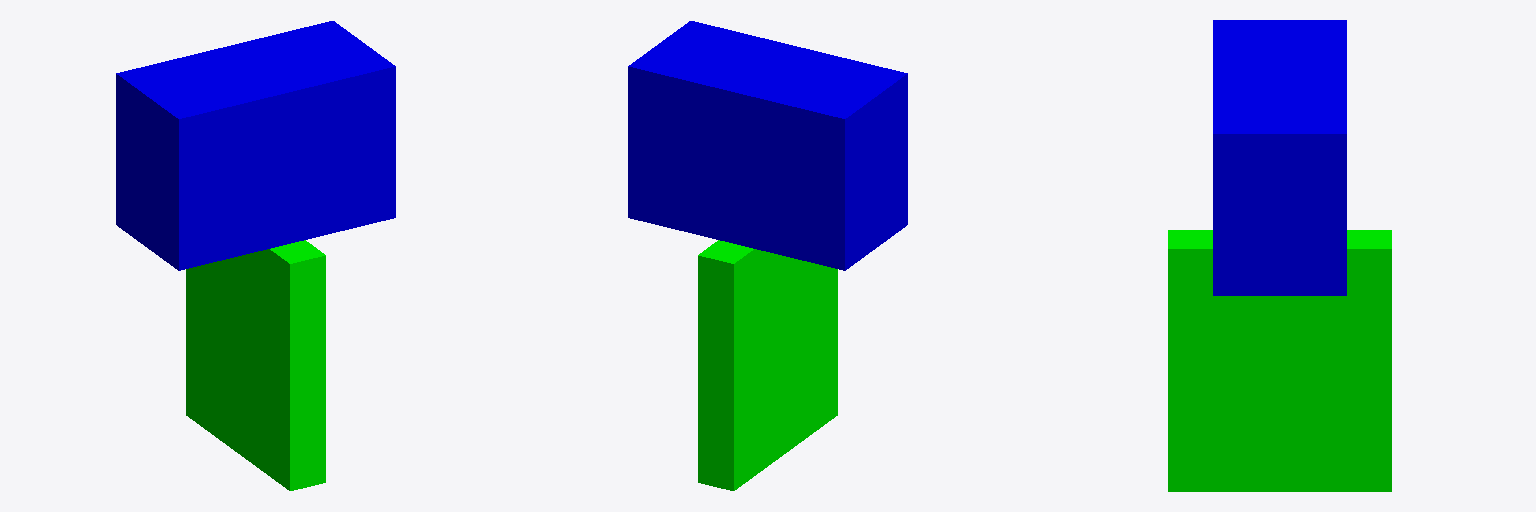
robot.urdf — robot:
<robot name = "robot">
    <link name="root">
        <inertial>
            <origin xyz="0.0 0.0 1.5" rpy="0 0 0"/>
            <mass value="1" />
            <inertia ixx="100" ixy="0" ixz="0" iyy="100" iyz="0" izz="100" />
        </inertial>
        <visual>
            <origin xyz="0.0 0.0 1.5" rpy="0 0 0"/>
            <geometry>
                <box size="0 0 0.0001" />
            </geometry>
            <material name="Green">
                <color rgba="0 1.0 0.0 1.0"/>
            </material>
        </visual>
        <collision>
            <origin xyz="0.0 0.0 1.5" rpy="0 0 0"/>
            <geometry>
                <box size="0 0 0.0001" />
            </geometry>
        </collision>
    </link>
    <joint name="root_000" type="revolute">
       <parent link="root"/>
       <child  link="000"/>
       <origin rpy="0 0 0" xyz="0.0 0.0 1.5" />
     <axis xyz="1 0 0"/>
       <limit effort="0.0" lower="-3.14159" upper="3.14159" velocity="0.0"/>
    </joint>
    <link name="000">
        <inertial>
            <origin xyz="0.0 0.05 0.0" rpy="0 0 0"/>
            <mass value="1" />
            <inertia ixx="100" ixy="0" ixz="0" iyy="100" iyz="0" izz="100" />
        </inertial>
        <visual>
            <origin xyz="0.0 0.05 0.0" rpy="0 0 0"/>
            <geometry>
                <box size="0.6 0.1 0.4" />
            </geometry>
            <material name="Blue">
                <color rgba="0 0.0 1.0 1.0"/>
            </material>
        </visual>
        <collision>
            <origin xyz="0.0 0.05 0.0" rpy="0 0 0"/>
            <geometry>
                <box size="0.6 0.1 0.4" />
            </geometry>
        </collision>
    </link>
    <joint name="000_010" type="revolute">
       <parent link="000"/>
       <child  link="010"/>
       <origin rpy="0 0 0" xyz="0.0 0.1 -0.0" />
     <axis xyz="0 1 0"/>
       <limit effort="0.0" lower="-3.14159" upper="3.14159" velocity="0.0"/>
    </joint>
    <link name="010">
        <inertial>
            <origin xyz="0.0 0.05 -0.0" rpy="0 0 0"/>
            <mass value="1" />
            <inertia ixx="100" ixy="0" ixz="0" iyy="100" iyz="0" izz="100" />
        </inertial>
        <visual>
            <origin xyz="0.0 0.05 -0.0" rpy="0 0 0"/>
            <geometry>
                <box size="0.6 0.1 0.4" />
            </geometry>
            <material name="Blue">
                <color rgba="0 0.0 1.0 1.0"/>
            </material>
        </visual>
        <collision>
            <origin xyz="0.0 0.05 -0.0" rpy="0 0 0"/>
            <geometry>
                <box size="0.6 0.1 0.4" />
            </geometry>
        </collision>
    </link>
    <joint name="010_020" type="revolute">
       <parent link="010"/>
       <child  link="020"/>
       <origin rpy="0 0 0" xyz="0.0 0.1 -0.0" />
     <axis xyz="0 1 0"/>
       <limit effort="0.0" lower="-3.14159" upper="3.14159" velocity="0.0"/>
    </joint>
    <link name="020">
        <inertial>
            <origin xyz="0.0 0.05 -0.0" rpy="0 0 0"/>
            <mass value="1" />
            <inertia ixx="100" ixy="0" ixz="0" iyy="100" iyz="0" izz="100" />
        </inertial>
        <visual>
            <origin xyz="0.0 0.05 -0.0" rpy="0 0 0"/>
            <geometry>
                <box size="0.6 0.1 0.4" />
            </geometry>
            <material name="Blue">
                <color rgba="0 0.0 1.0 1.0"/>
            </material>
        </visual>
        <collision>
            <origin xyz="0.0 0.05 -0.0" rpy="0 0 0"/>
            <geometry>
                <box size="0.6 0.1 0.4" />
            </geometry>
        </collision>
    </link>
    <joint name="020_020-100" type="revolute">
       <parent link="020"/>
       <child  link="020-100"/>
       <origin rpy="0 0 0" xyz="0.0 0.05 -0.2" />
     <axis xyz="0 0 1"/>
       <limit effort="0.0" lower="-3.14159" upper="3.14159" velocity="0.0"/>
    </joint>
    <link name="020-100">
        <inertial>
            <origin xyz="0.0 0.0 -0.3" rpy="0 0 0"/>
            <mass value="1" />
            <inertia ixx="100" ixy="0" ixz="0" iyy="100" iyz="0" izz="100" />
        </inertial>
        <visual>
            <origin xyz="0.0 0.0 -0.3" rpy="0 0 0"/>
            <geometry>
                <box size="0.1 0.3 0.6" />
            </geometry>
            <material name="Green">
                <color rgba="0 1.0 0.0 1.0"/>
            </material>
        </visual>
        <collision>
            <origin xyz="0.0 0.0 -0.3" rpy="0 0 0"/>
            <geometry>
                <box size="0.1 0.3 0.6" />
            </geometry>
        </collision>
    </link>
    <joint name="000_000-100" type="revolute">
       <parent link="000"/>
       <child  link="000-100"/>
       <origin rpy="0 0 0" xyz="0.0 0.05 -0.2" />
     <axis xyz="0 0 1"/>
       <limit effort="0.0" lower="-3.14159" upper="3.14159" velocity="0.0"/>
    </joint>
    <link name="000-100">
        <inertial>
            <origin xyz="0.0 0.0 -0.3" rpy="0 0 0"/>
            <mass value="1" />
            <inertia ixx="100" ixy="0" ixz="0" iyy="100" iyz="0" izz="100" />
        </inertial>
        <visual>
            <origin xyz="0.0 0.0 -0.3" rpy="0 0 0"/>
            <geometry>
                <box size="0.1 0.3 0.6" />
            </geometry>
            <material name="Green">
                <color rgba="0 1.0 0.0 1.0"/>
            </material>
        </visual>
        <collision>
            <origin xyz="0.0 0.0 -0.3" rpy="0 0 0"/>
            <geometry>
                <box size="0.1 0.3 0.6" />
            </geometry>
        </collision>
    </link>
</robot>

--- Render facts (derived) ---
3 views of the same robot in one strip: view 1: azimuth 30°, elevation 25°; view 2: azimuth 150°, elevation 25°; view 3: azimuth 270°, elevation 25° (orthographic).
Robot: robot — 6 links, 5 joints (5 revolute); root link root; default pose: every joint at zero.
Links seen in each view (by area): view 1: 000, 000-100, 020-100, 010, 020; view 2: 020, 020-100, 010, 000, 000-100; view 3: 020-100, 000-100, 000, 020, 010.
Boxes of the visible links, left/top/right/bottom form: 000: left=158, top=51, right=395, bottom=270; 000-100: left=227, top=240, right=325, bottom=490; 020-100: left=186, top=254, right=247, bottom=459; 010: left=137, top=36, right=373, bottom=254; 020: left=116, top=21, right=353, bottom=239; 020: left=628, top=51, right=865, bottom=270; 020-100: left=698, top=240, right=796, bottom=490; 010: left=650, top=36, right=886, bottom=254; 000: left=670, top=21, right=907, bottom=239; 000-100: left=776, top=255, right=837, bottom=457; 020-100: left=1258, top=230, right=1391, bottom=491; 000-100: left=1168, top=230, right=1301, bottom=491; 000: left=1213, top=20, right=1257, bottom=295; 020: left=1302, top=20, right=1346, bottom=295; 010: left=1258, top=20, right=1301, bottom=295.
Bounding box of the posed robot: 0.6 × 0.5 × 1 m (x, y, z).
Geometry: primitives only (box / cylinder / sphere), no mesh files.
